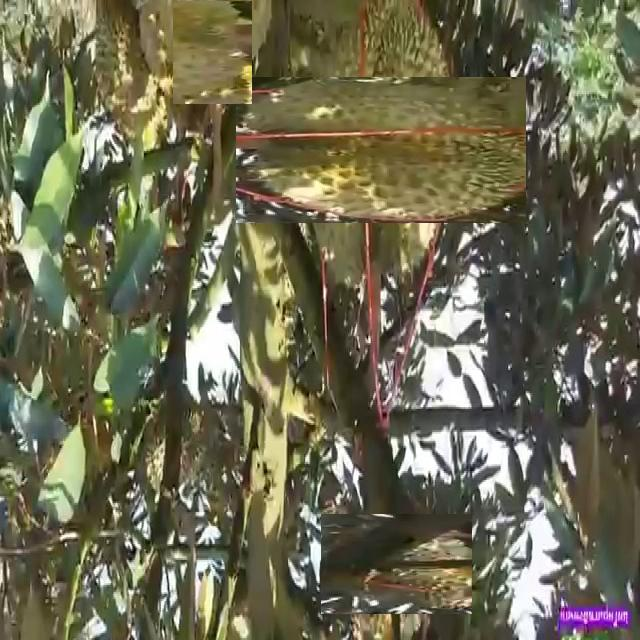durian: (272, 41, 491, 259), (334, 501, 459, 627), (92, 2, 190, 153), (161, 0, 263, 93)
